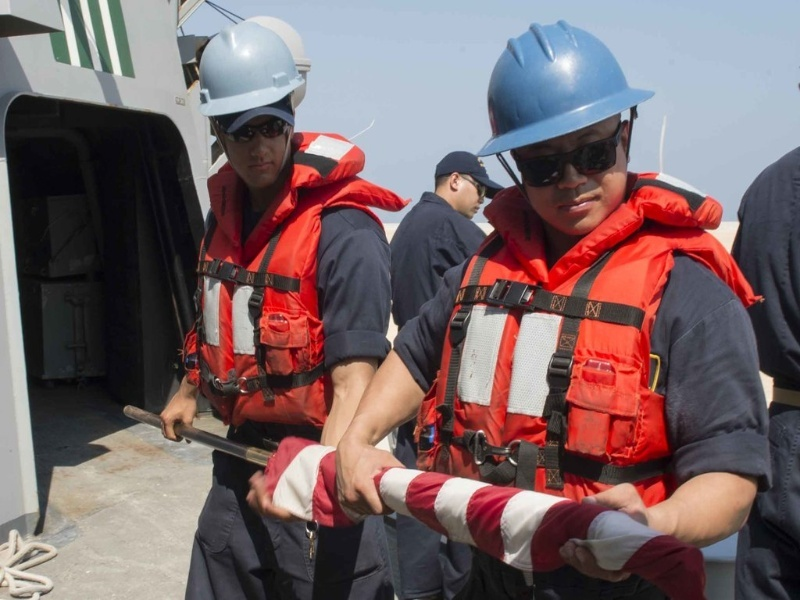baret: (474, 22, 656, 160), (199, 23, 301, 110)
